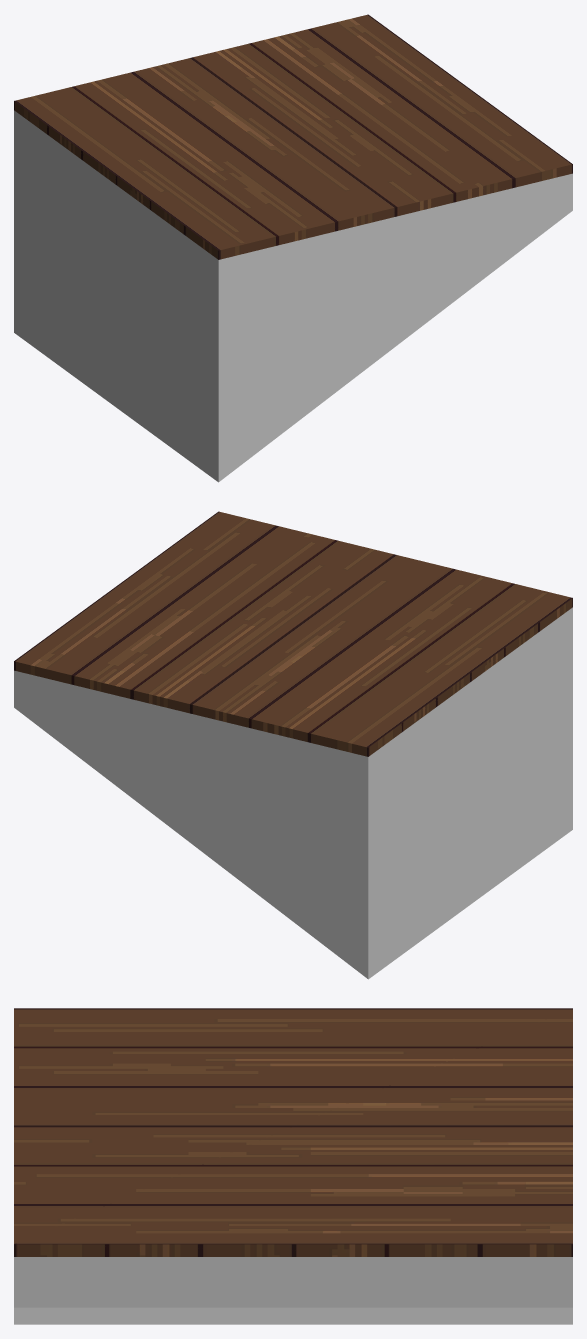
File: SM_floor_01_quarterConnector.glb
3 renders of one model, top to bottom at view 1: azimuth 30°, elevation 25°; view 2: azimuth 150°, elevation 25°; view 3: azimuth 270°, elevation 25°, orthographic. The views are drawn at different scales.
Parts seen in each view (by area): view 1: SM_floor_01_quarterConnector; view 2: SM_floor_01_quarterConnector; view 3: SM_floor_01_quarterConnector.
Part boxes in pixels (<box>): SM_floor_01_quarterConnector: <box>14,14,572,482</box>; SM_floor_01_quarterConnector: <box>14,511,572,979</box>; SM_floor_01_quarterConnector: <box>14,1008,572,1324</box>.
Size of the model in its own units: 2 by 1.25 by 2.
2 materials, 1 textured.
